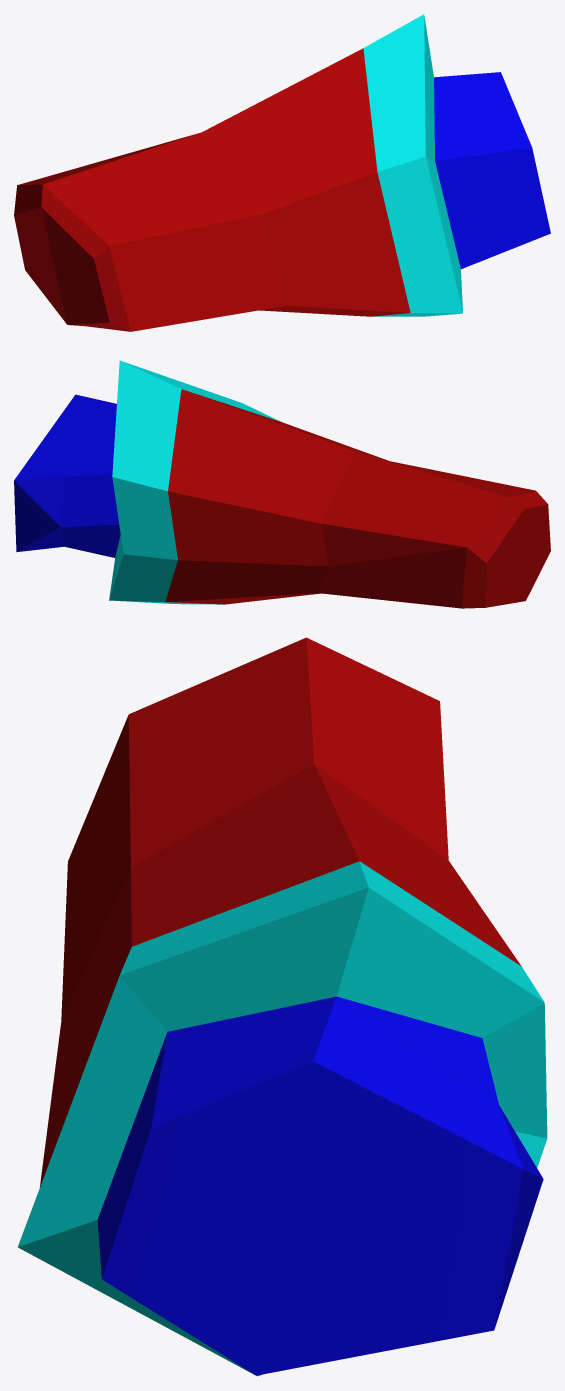
File: Chr_ArmLowerRight_Male_Static_07.fbx
The picture shows the model from 3 angles, top to bottom: view 1: azimuth 30°, elevation 25°; view 2: azimuth 150°, elevation 25°; view 3: azimuth 270°, elevation 25°; orthographic projection. The views are drawn at different scales.
Parts seen in each view (by area): view 1: Chr_ArmLowerRight_Male_07; view 2: Chr_ArmLowerRight_Male_07; view 3: Chr_ArmLowerRight_Male_07.
Part boxes in pixels (left/top/right/bottom): Chr_ArmLowerRight_Male_07: left=14, top=14, right=550, bottom=331; Chr_ArmLowerRight_Male_07: left=14, top=360, right=550, bottom=608; Chr_ArmLowerRight_Male_07: left=18, top=637, right=547, bottom=1376.
Bounding box in the file's own units: 28.94 × 15.68 × 14.62.
